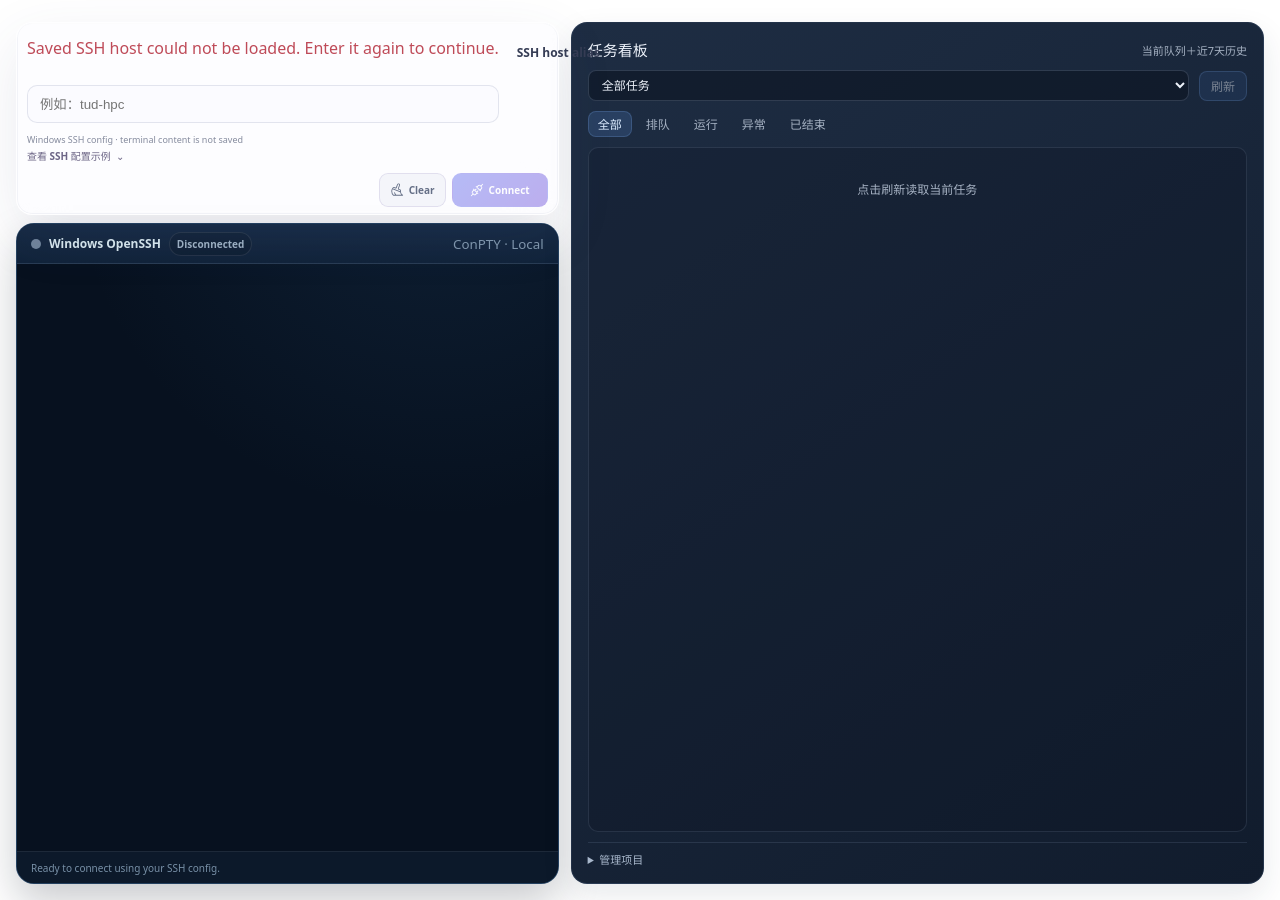
Test case: HpcPage › keeps SSH controls available after saved-host loading fails and saves on a later connection
Check: the text "Saved SSH host could not be loaded. Enter it again to continue." is shown, box [27,37,499,59]
Type "tud-hpc" into the field labelled "SSH host alias". click: (263, 104)
box: [27,85,499,123]
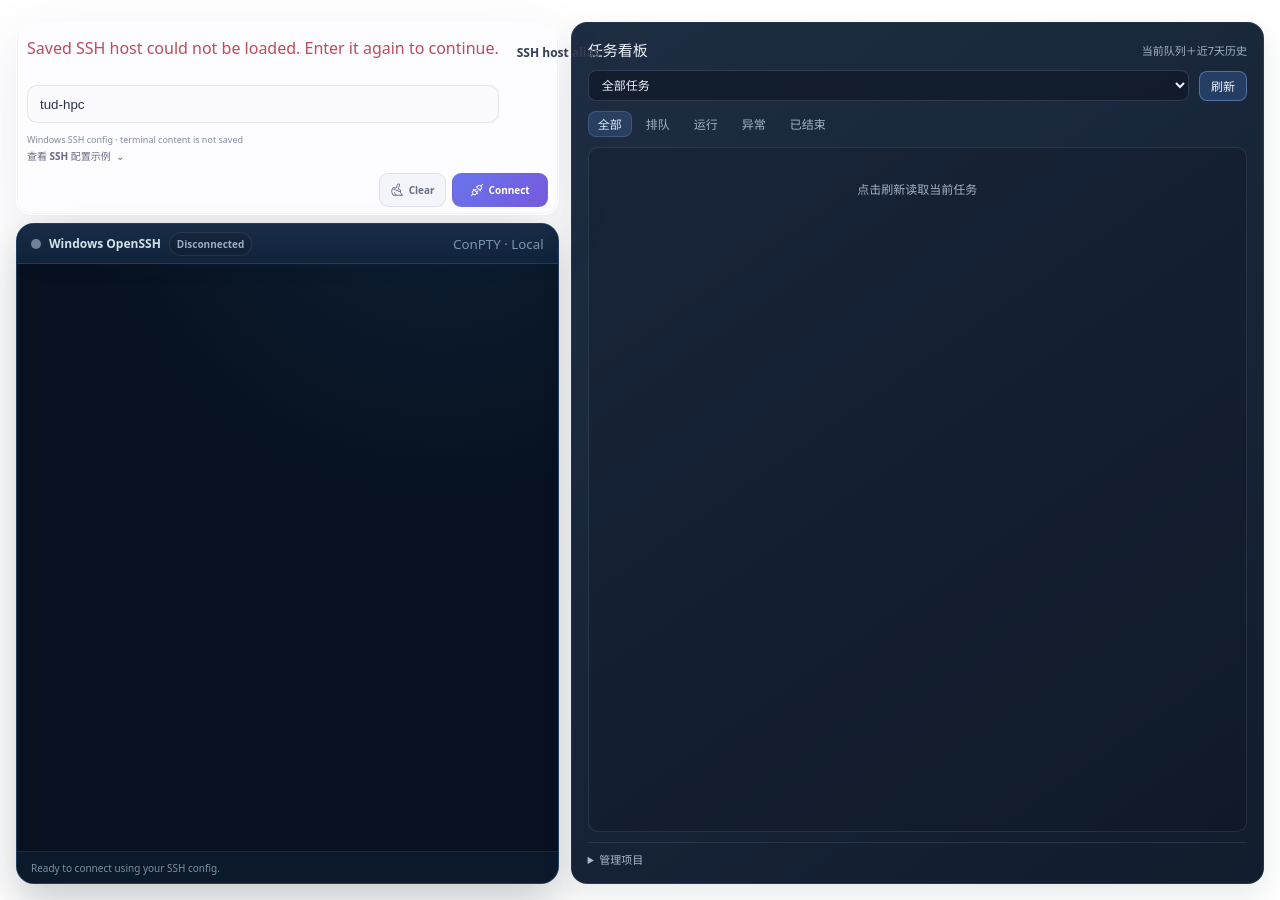
Click the button "Connect". click: (500, 190)
box: [452,173,548,207]
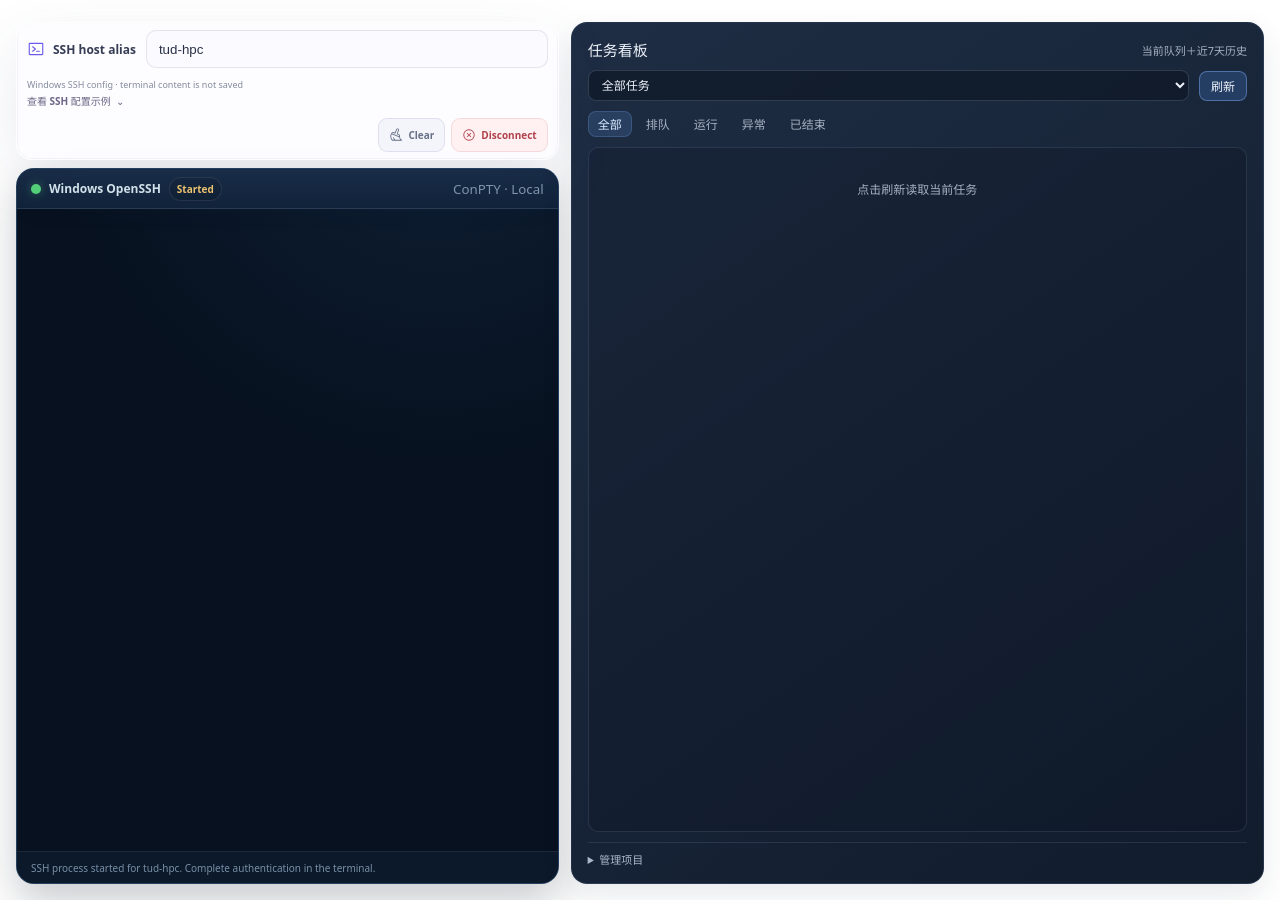
Check: the text "Started" is shown, box [169,176,222,200]
Check: the text "Saved SSH host could not be loaded. Enter it again to continue." is gone
